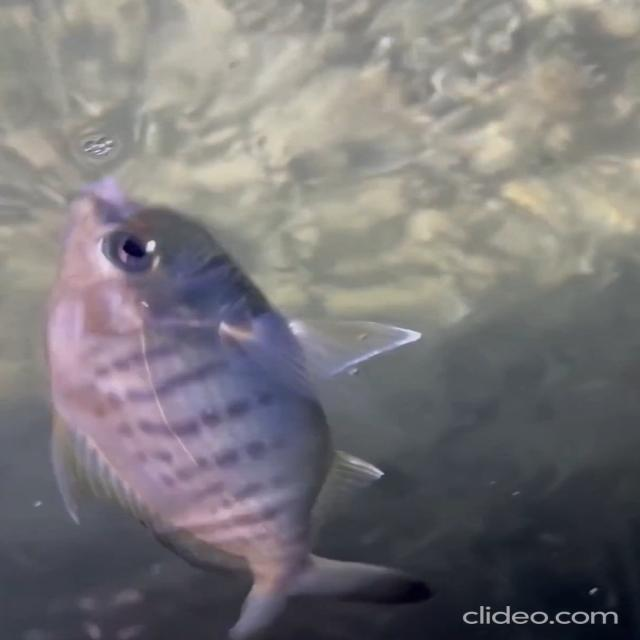fish: (39, 183, 437, 640)
